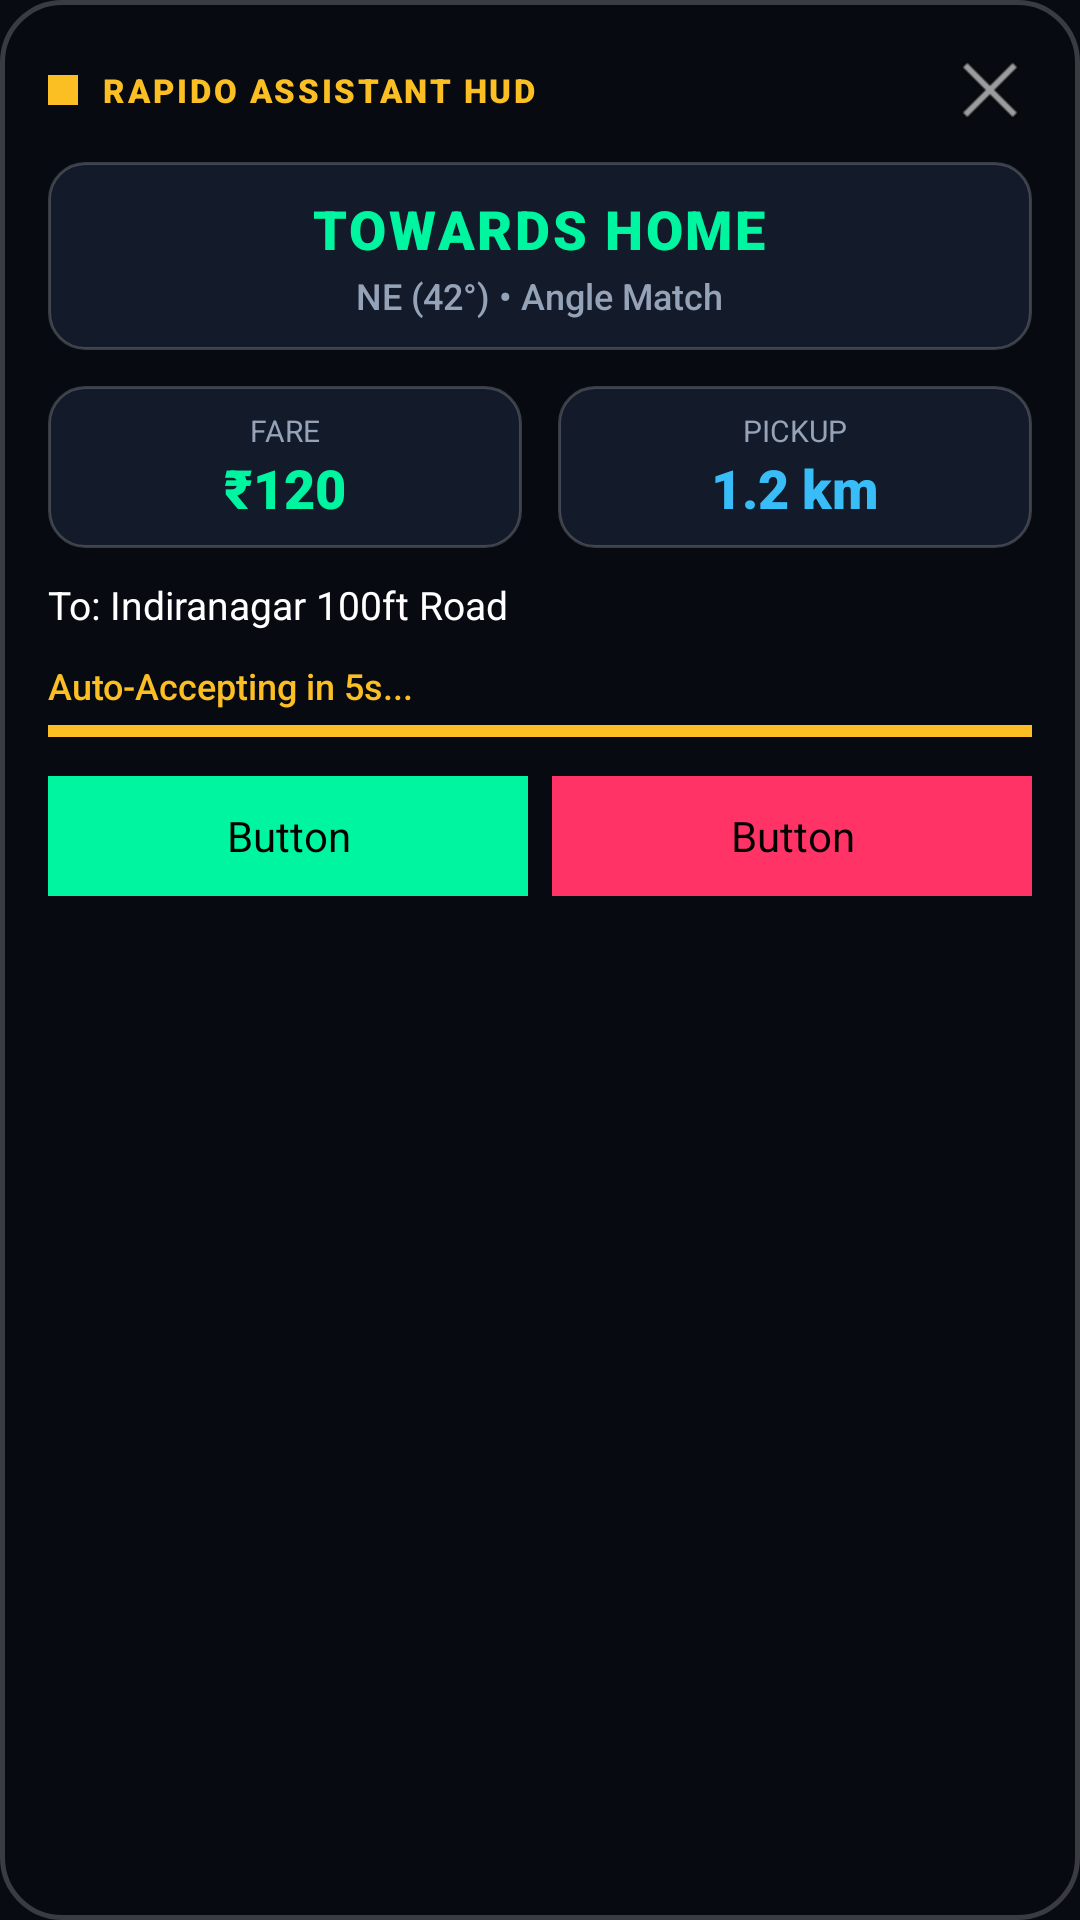

Icon bounding boxes for this 1080*1920 phone screenshot, format bbox(x1, y1, x2, y2):
Close HUD: bbox(963, 63, 1017, 117)
